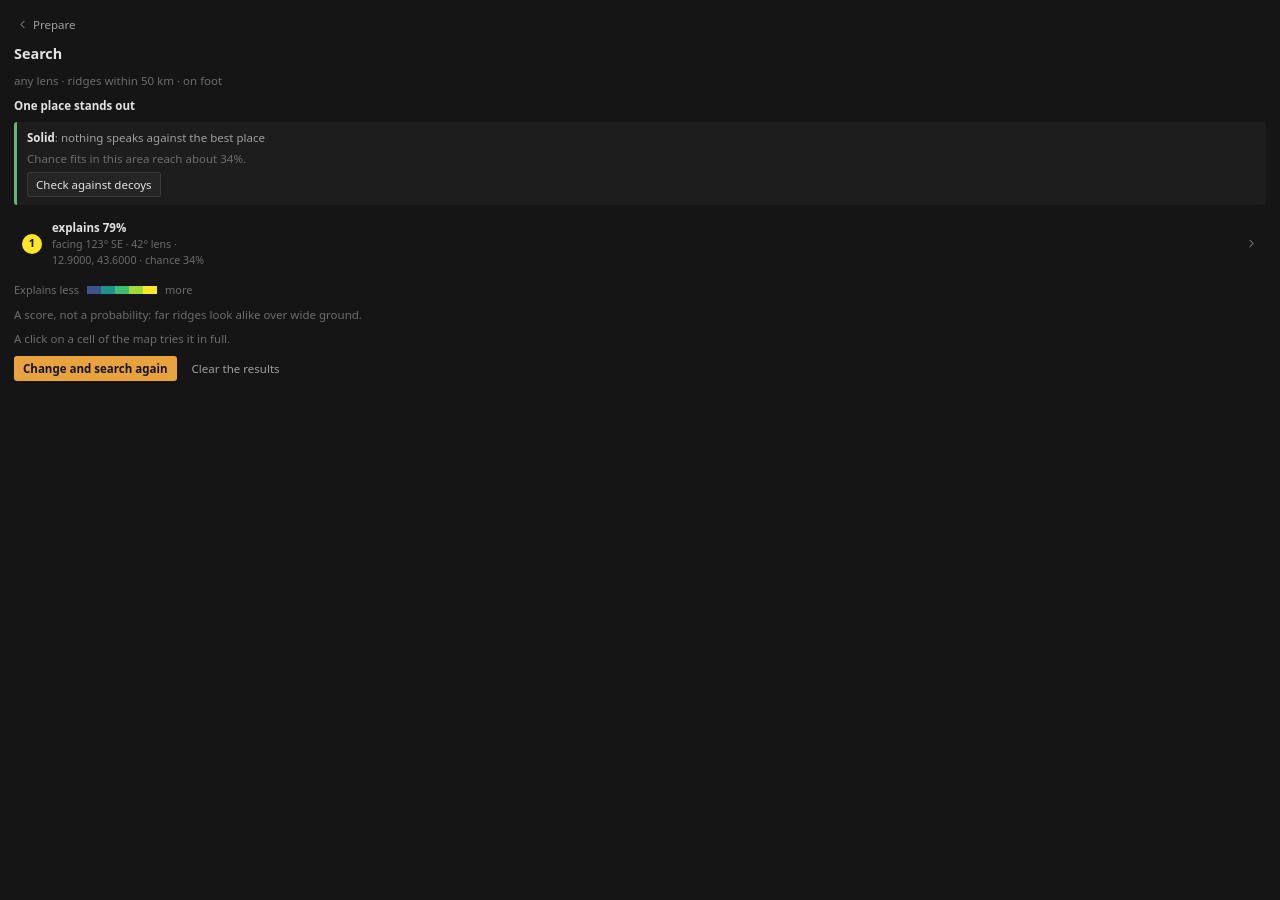
Test: the steps of Find › checks a search against decoys of its trace on a press, and says what they explain
The image size is (1280, 900).
Click the button "Check against decoys" at (94, 184), box [27,172,161,197]
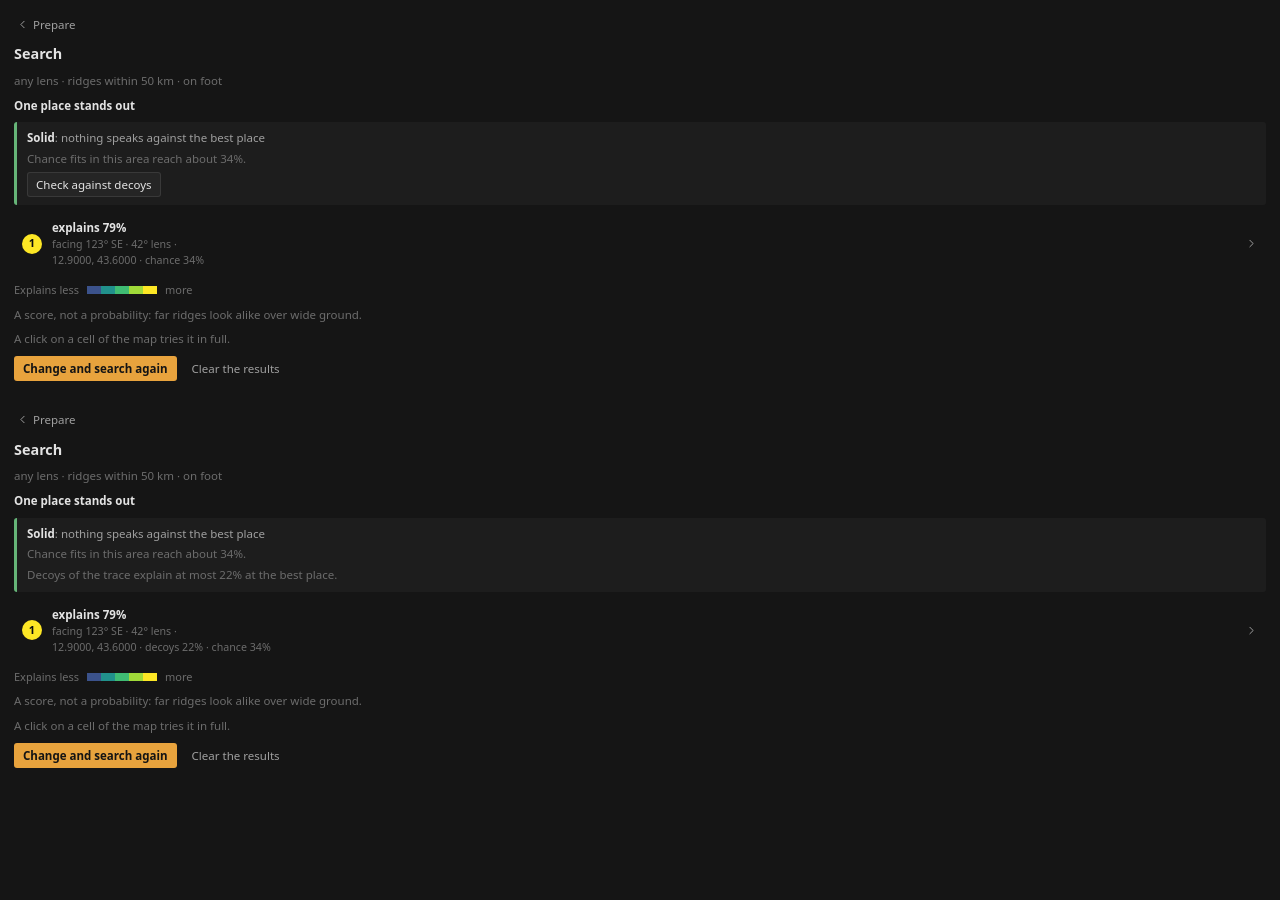
Expected: the button with aria-label "Look from here, the photo laid as the search found it" shows "chance 34%", [14,213,1266,274]
Now the text "Decoys of the trace explain at most 22% at the best place." is shown, box [27,567,337,582]
Now the button with class "fs-place" shows "decoys 22%", box [14,600,1266,661]
